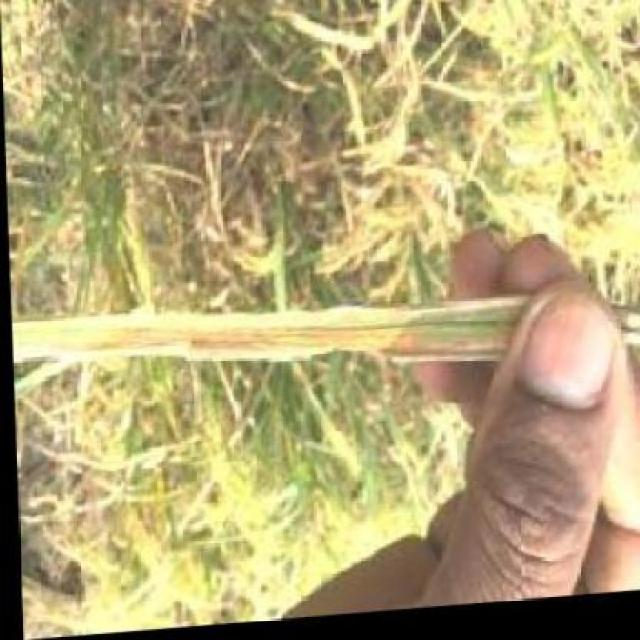Brown_Spot: (31, 249, 518, 417)
